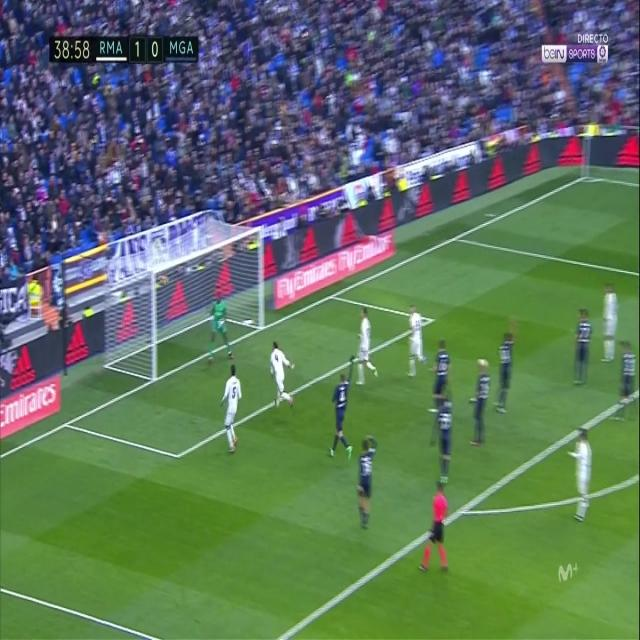Goalkeeper: (205, 288, 238, 368)
Player: (324, 356, 355, 462), (566, 424, 594, 526), (492, 322, 518, 420), (429, 397, 456, 489), (218, 362, 244, 456), (467, 354, 490, 452), (356, 433, 378, 530), (355, 306, 380, 391), (570, 304, 594, 390), (268, 339, 296, 409), (406, 302, 429, 384), (598, 278, 619, 366), (616, 338, 638, 422), (428, 340, 452, 416)
Referee: (416, 478, 453, 578)
